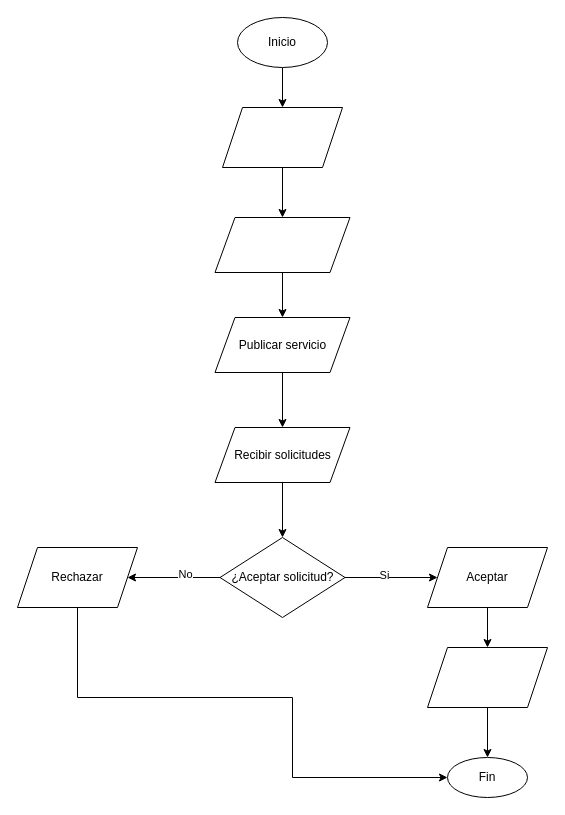
This 565x815 diagram has some shape labels left out. Each missing label, with the centre of its shape:
Atender al cliente: the point at 487,677
Crear servicio: the point at 282,244
Registrar / Login: the point at 282,137
